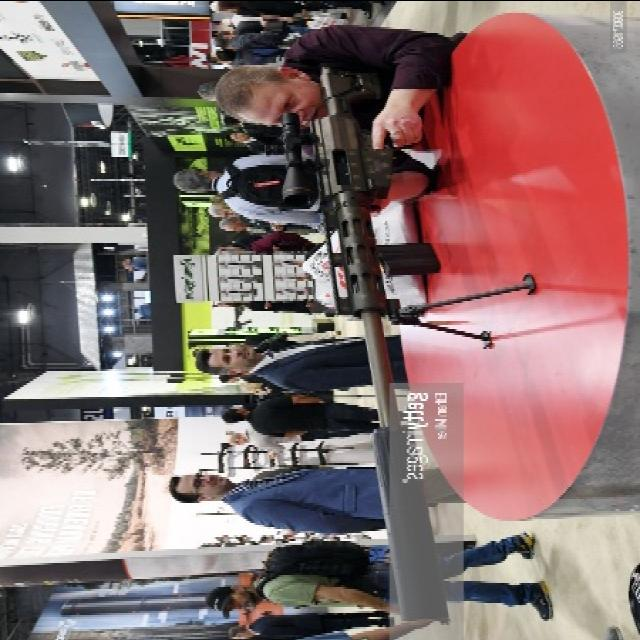rifle: (278, 57, 466, 637)
